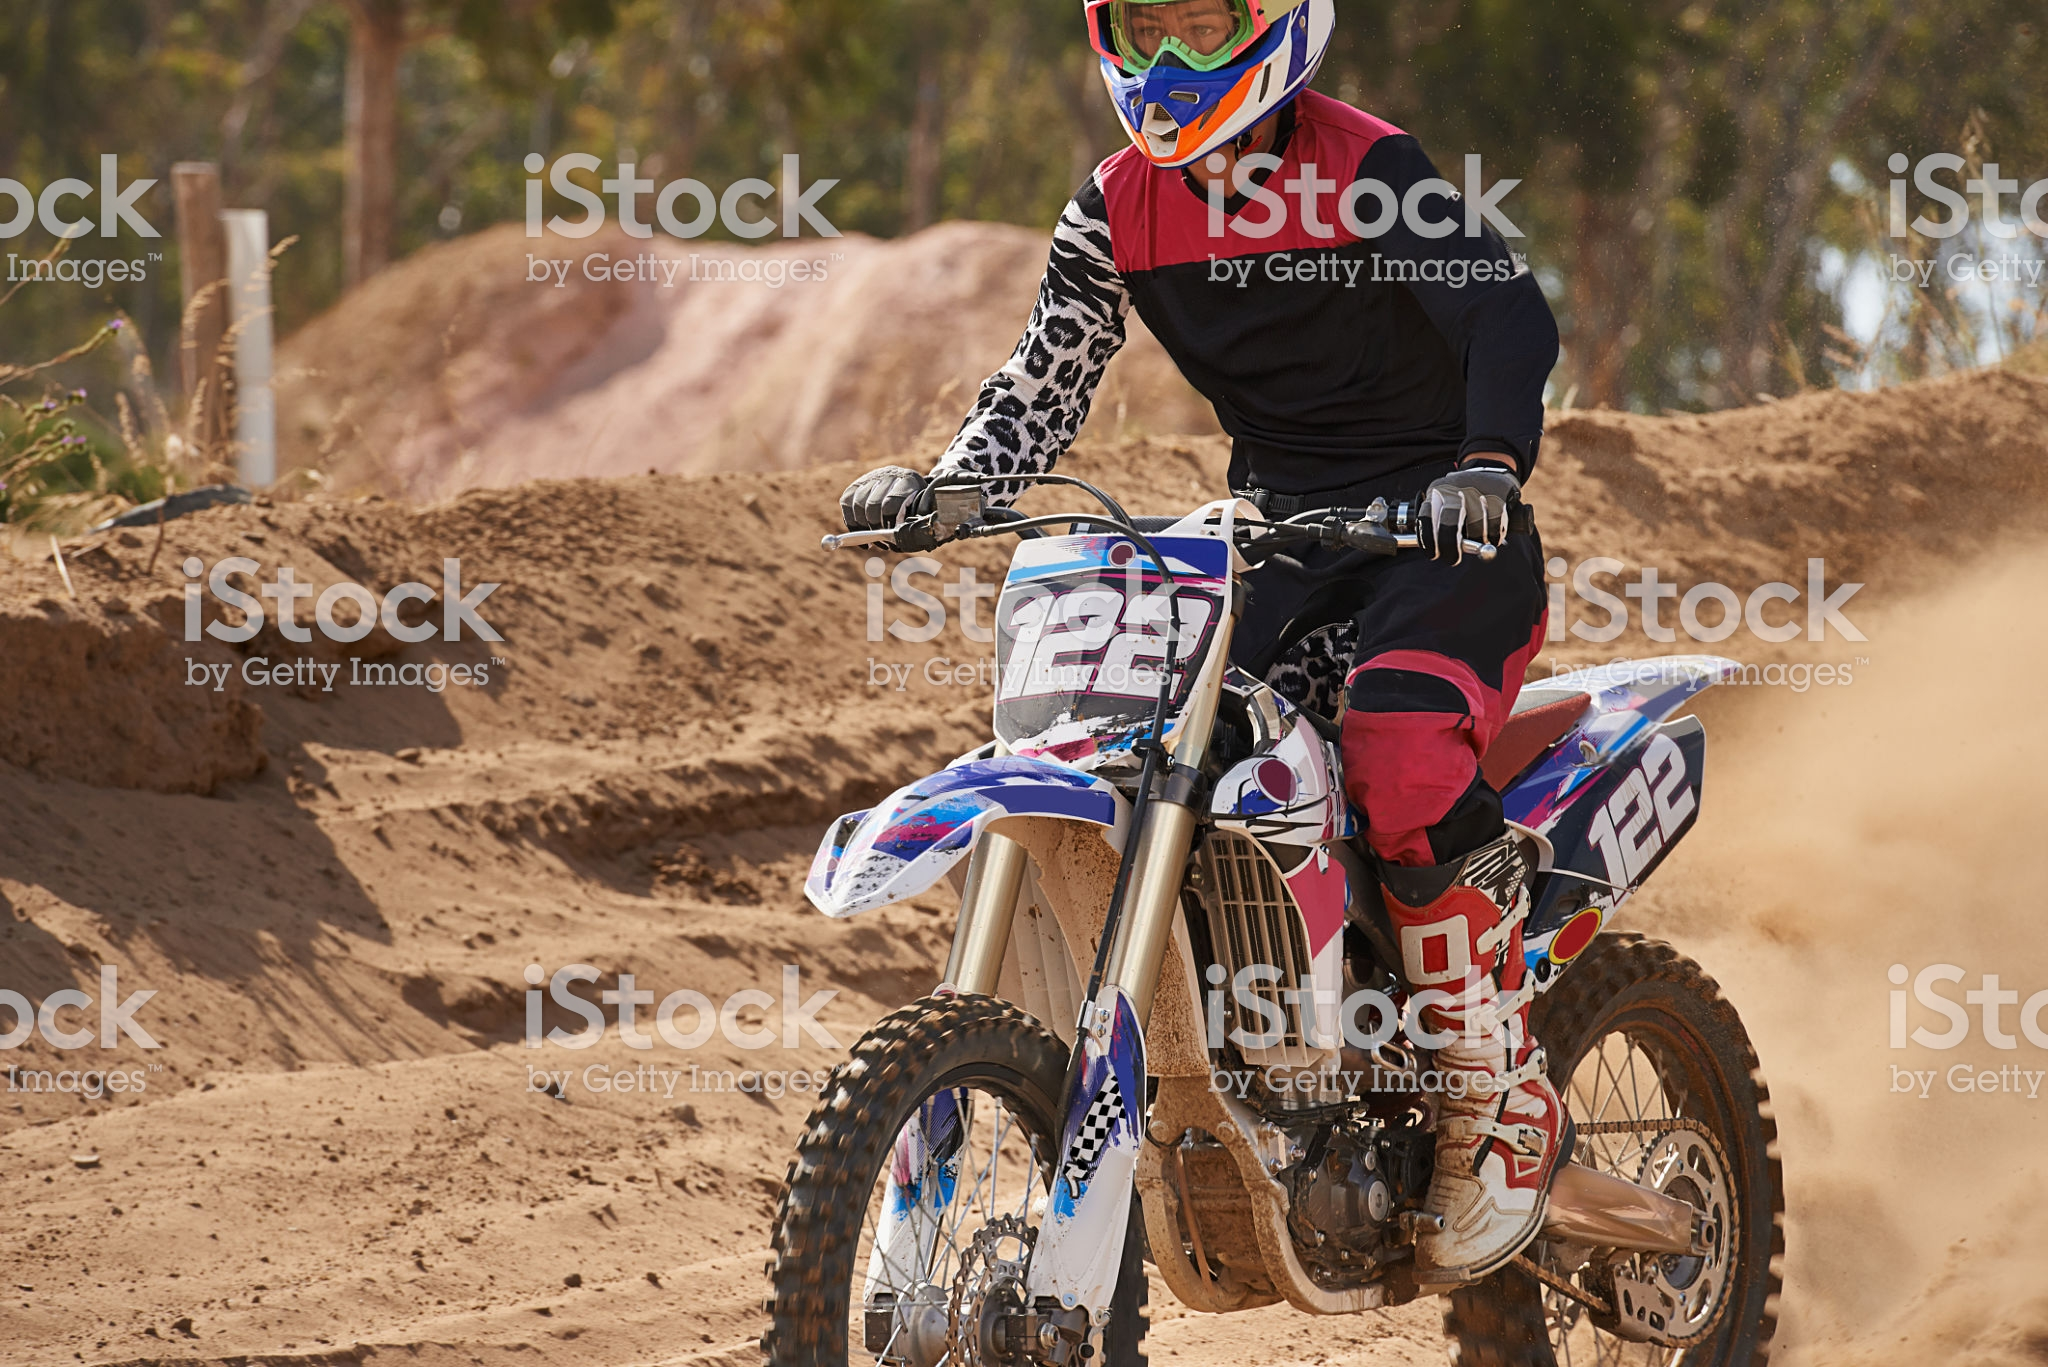helmet: (1096, 2, 1340, 179)
